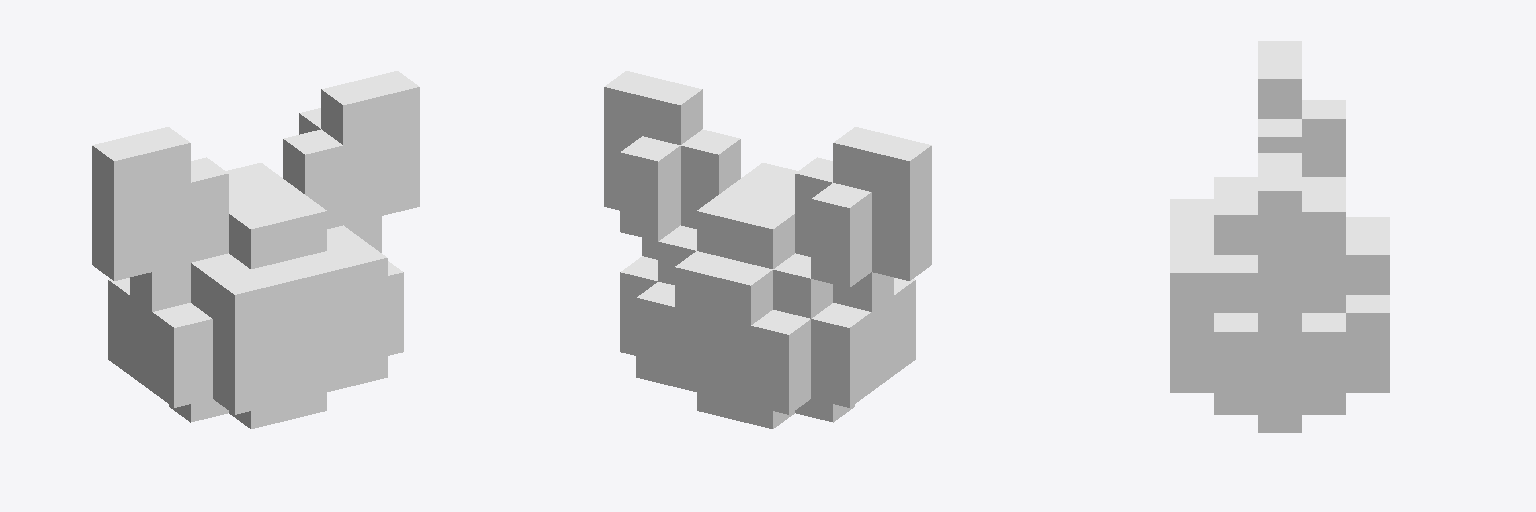
File: bat-8.obj
3 views of the same model, side by side, from view 1: azimuth 30°, elevation 25°; view 2: azimuth 150°, elevation 25°; view 3: azimuth 270°, elevation 25° (orthographic).
Parts seen in each view (by area): view 1: object 1; view 2: object 1; view 3: object 1.
Part boxes in pixels (x1,y1,x2,y2): object 1: (92,71,419,428); object 1: (604,71,931,428); object 1: (1170,41,1389,432).
Bounding box in the file's own units: 0.8 × 0.7 × 0.5.